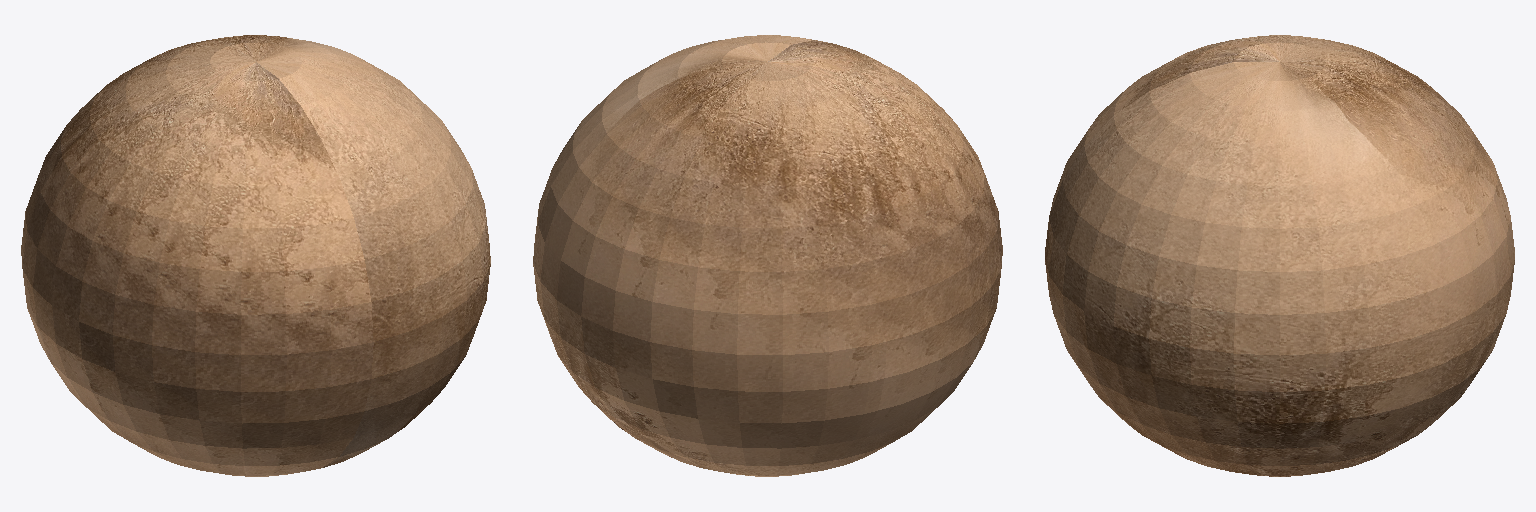
3 renders of one model, left to right at view 1: azimuth 30°, elevation 25°; view 2: azimuth 150°, elevation 25°; view 3: azimuth 270°, elevation 25°, orthographic.
Visible parts, largest first — view 1: Sphere_Sphere.001; view 2: Sphere_Sphere.001; view 3: Sphere_Sphere.001.
Part boxes in pixels (bbox=[...]): Sphere_Sphere.001: bbox=[21, 35, 490, 476]; Sphere_Sphere.001: bbox=[533, 35, 1002, 476]; Sphere_Sphere.001: bbox=[1045, 35, 1514, 476].
Size of the model in its own units: 2 by 1.82 by 2.
1 materials, 1 textured.